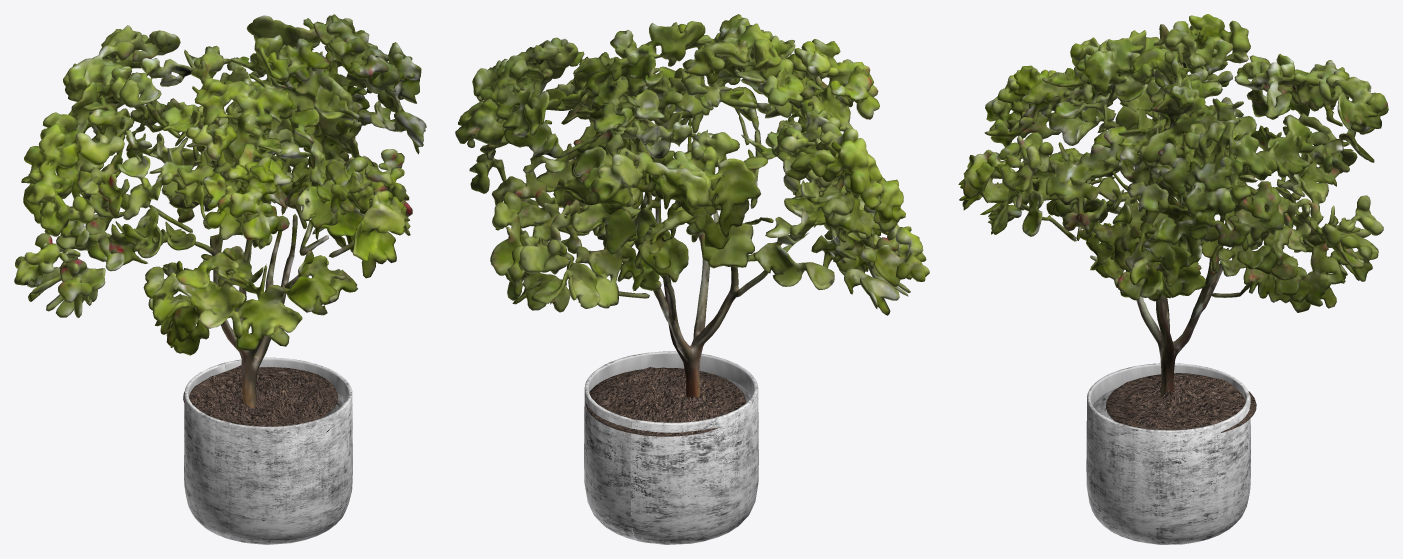
Rendered from poovarshu.glb.
3 views of the same model, side by side, from view 1: azimuth 30°, elevation 25°; view 2: azimuth 150°, elevation 25°; view 3: azimuth 270°, elevation 25° (orthographic). The views are drawn at different scales.
Parts seen in each view (by area): view 1: Mesh_0.018, G-AUL10_0; view 2: Mesh_0.018, G-AUL10_0; view 3: Mesh_0.018, G-AUL10_0.
Boxes of the visible parts, x1,y1,x2,y2 form: Mesh_0.018: [14, 14, 426, 408]; G-AUL10_0: [183, 357, 352, 544]; Mesh_0.018: [455, 14, 929, 397]; G-AUL10_0: [584, 351, 758, 544]; Mesh_0.018: [958, 14, 1388, 396]; G-AUL10_0: [1086, 363, 1256, 544].
Size of the model in its own units: 1.94 by 2.13 by 1.77.
Materials: 3 (3 with a texture image).
